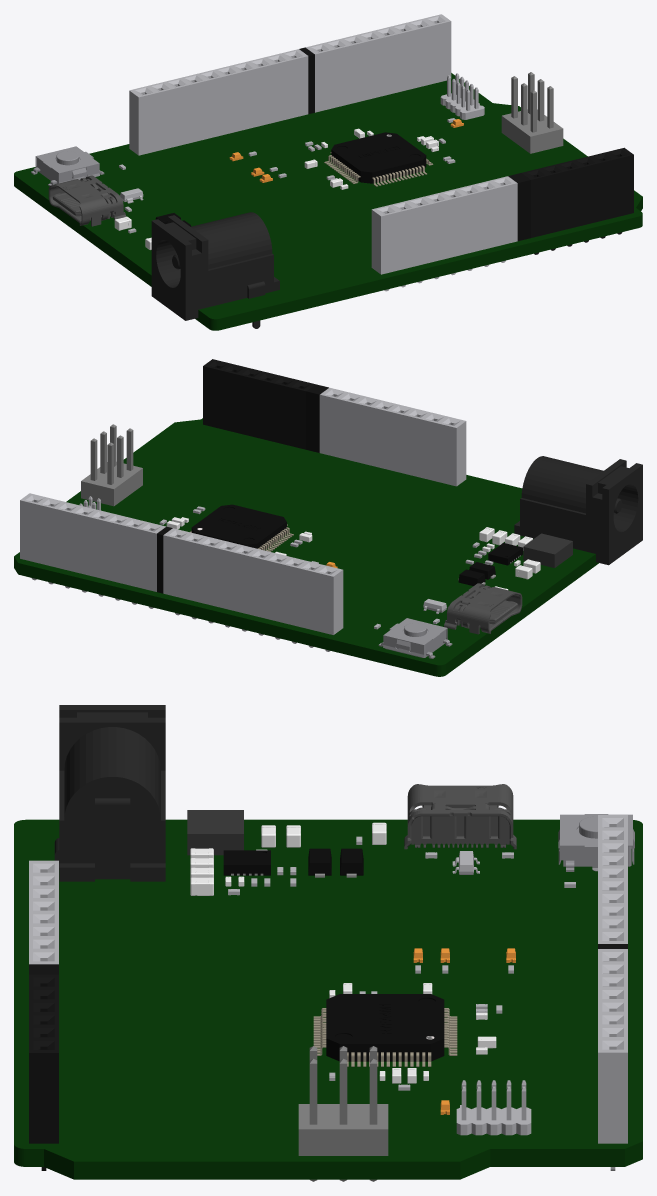
Rendered from arduino-uno-r4-minima.glb.
3 renders of one model, top to bottom at view 1: azimuth 30°, elevation 25°; view 2: azimuth 150°, elevation 25°; view 3: azimuth 270°, elevation 25°, orthographic. The views are drawn at different scales.
Visible parts, largest first — view 1: arduino-uno-r4-minima; view 2: arduino-uno-r4-minima; view 3: arduino-uno-r4-minima.
Part boxes in pixels (bbox=[...]): arduino-uno-r4-minima: bbox=[14, 14, 642, 330]; arduino-uno-r4-minima: bbox=[14, 359, 642, 676]; arduino-uno-r4-minima: bbox=[14, 705, 642, 1181].
Size of the model in its own units: 70.54 by 14.5 by 53.34.
